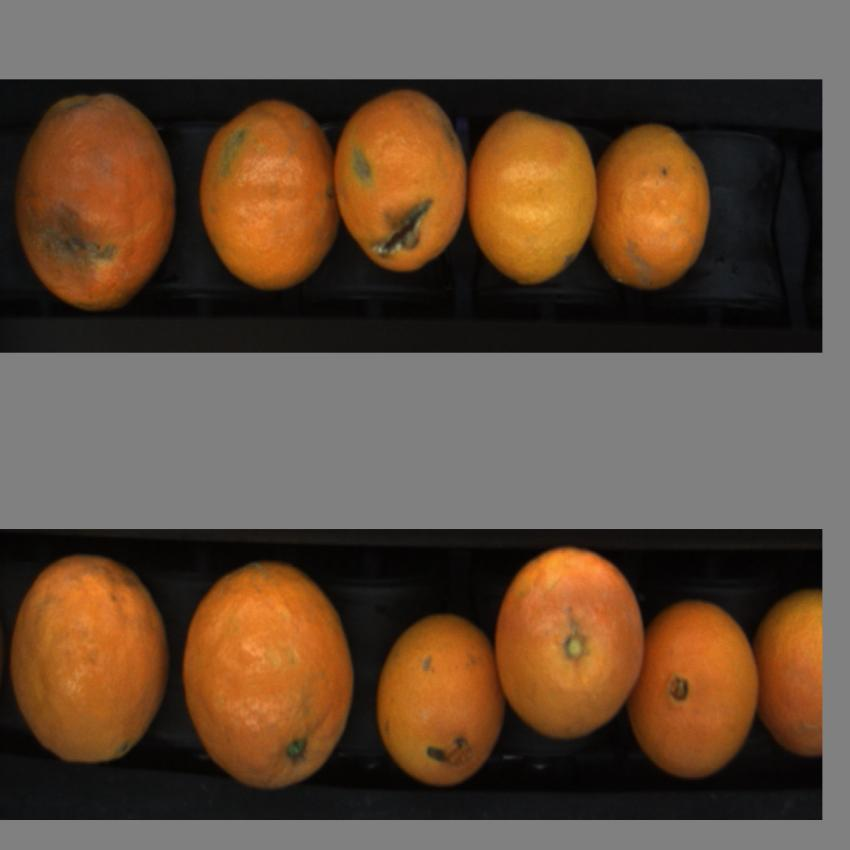Buen estado: (181, 552, 358, 800), (196, 96, 344, 296), (370, 592, 503, 800), (628, 592, 761, 789)
Mal estado: (9, 550, 172, 778), (12, 88, 176, 314), (491, 552, 654, 753), (331, 91, 468, 282), (463, 102, 597, 294), (596, 111, 712, 305), (752, 583, 824, 762)
